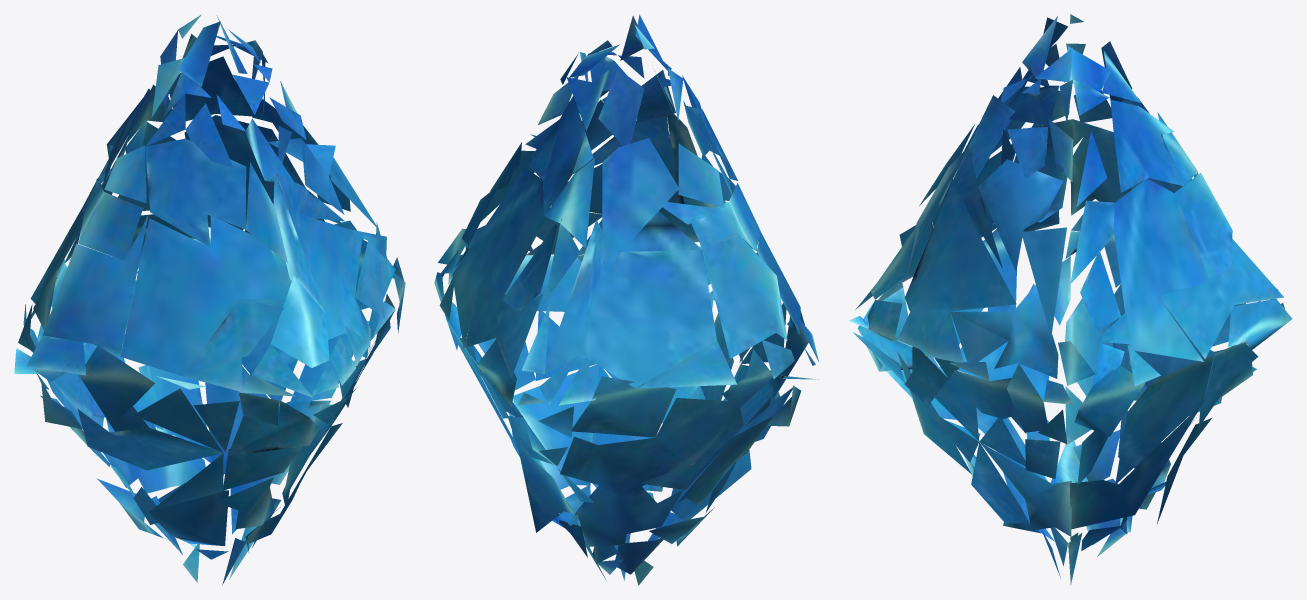
The model's file is gem-gross.glb.
3 views of the same model, side by side, from view 1: azimuth 30°, elevation 25°; view 2: azimuth 150°, elevation 25°; view 3: azimuth 270°, elevation 25° (orthographic). The views are drawn at different scales.
Visible parts, largest first — view 1: output_unwrapped; view 2: output_unwrapped; view 3: output_unwrapped.
Part boxes in pixels (x1,y1,x2,y2): output_unwrapped: (14, 14, 405, 585); output_unwrapped: (434, 14, 819, 585); output_unwrapped: (848, 14, 1292, 585).
Bounding box in the file's own units: 1.2 × 1.71 × 1.23.
Materials: 1 (1 with a texture image).
